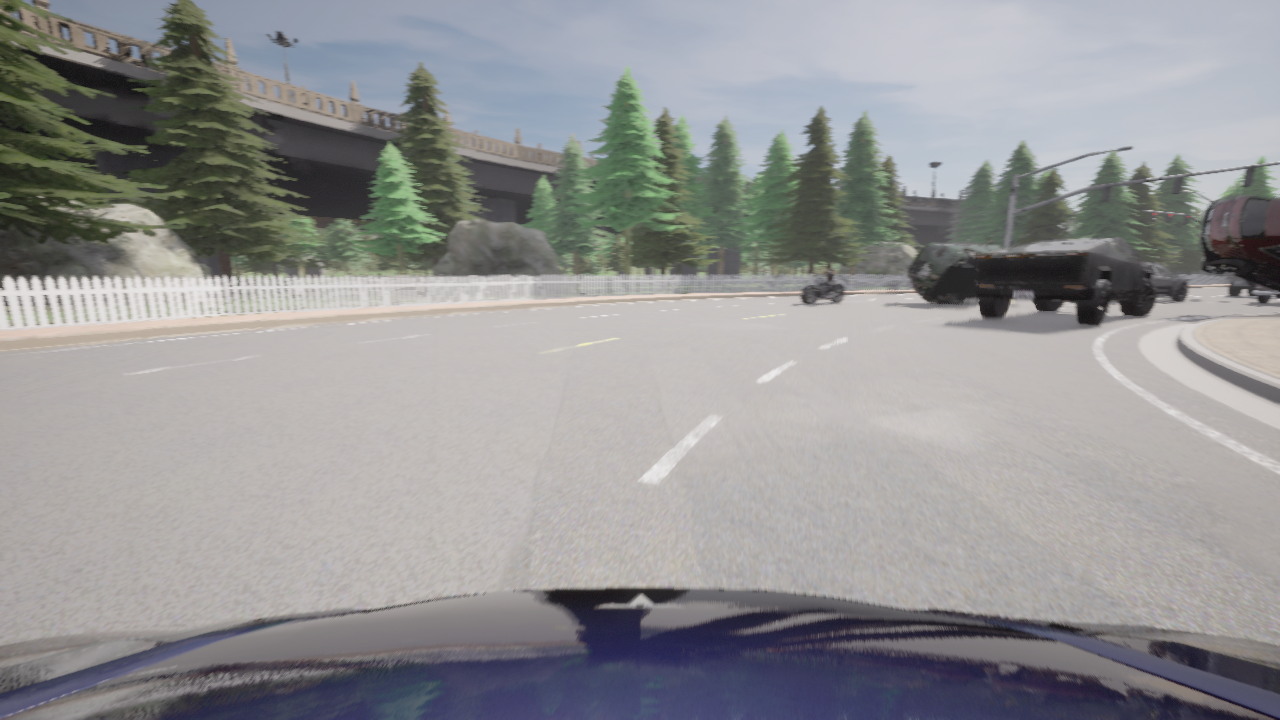cyclist: (0, 588, 1279, 719), (974, 237, 1155, 326), (1199, 195, 1279, 292), (907, 239, 1008, 304), (1147, 263, 1187, 301), (801, 271, 844, 304), (1228, 277, 1279, 297), (1252, 284, 1279, 303)
